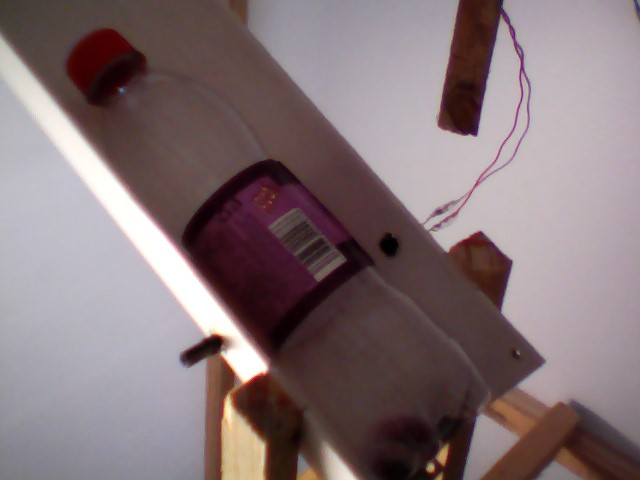plastico: (50, 17, 502, 480)
